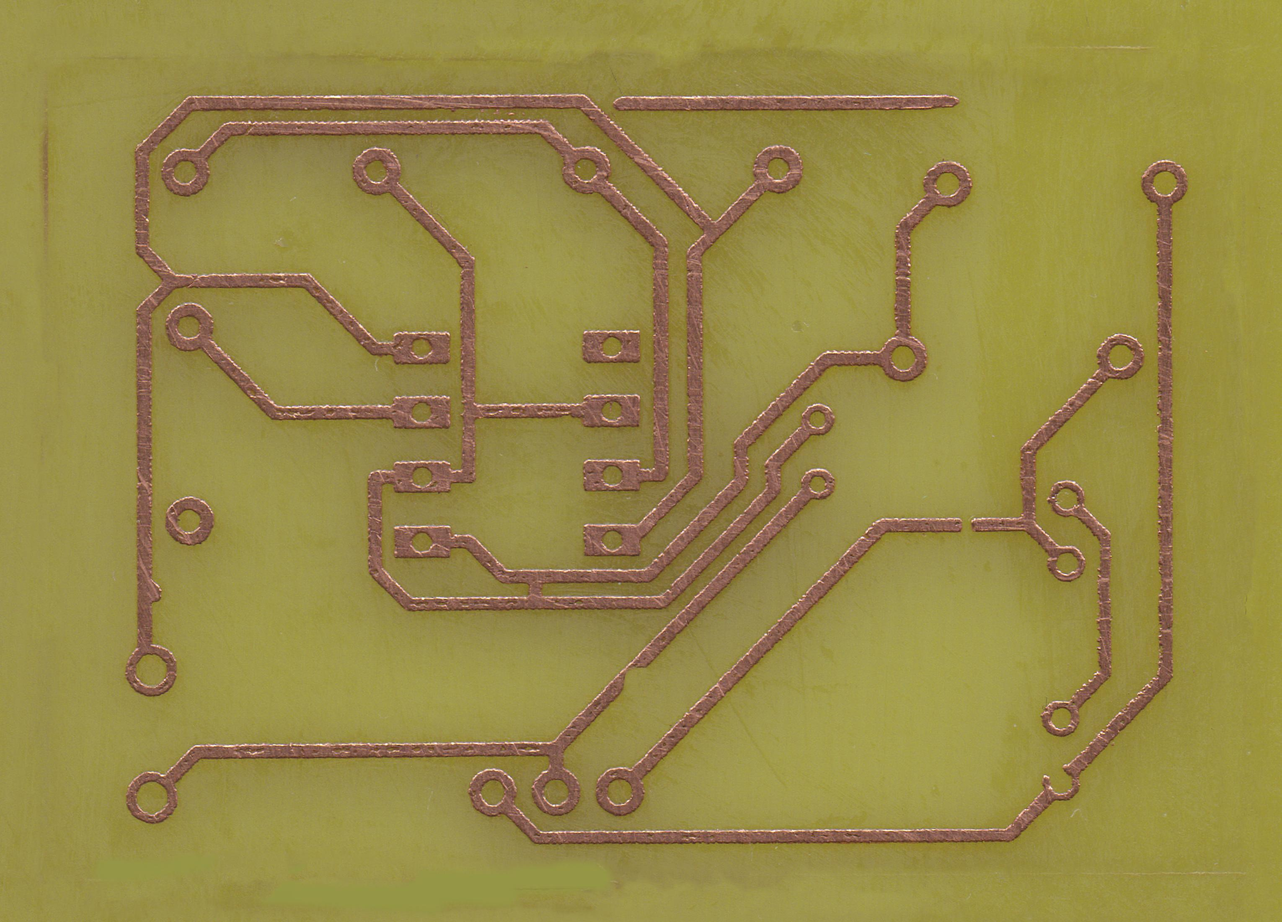missing_hole: (1039, 761, 1081, 806)
mouse_bite: (616, 657, 646, 687)
open_circuit: (949, 515, 983, 534)
short: (520, 570, 553, 607)
spur: (134, 577, 166, 610)
spurious_copper: (608, 93, 966, 119)
